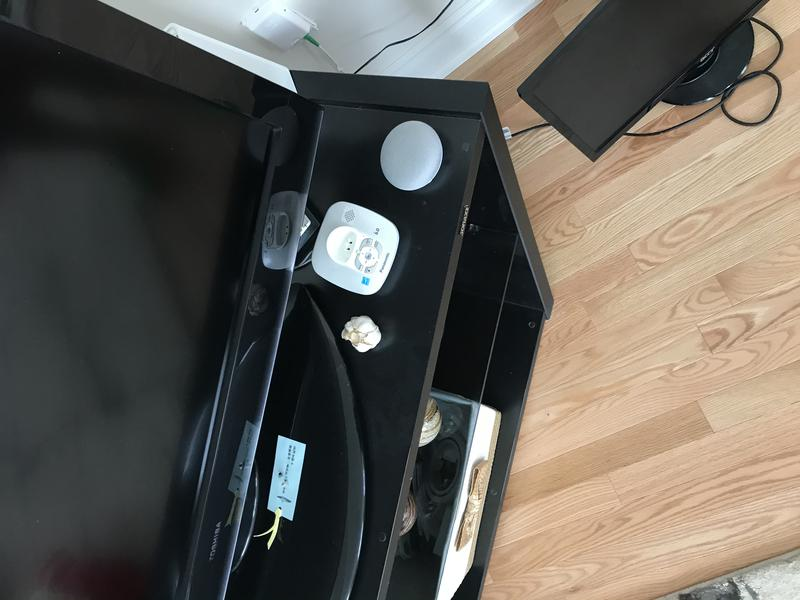garlic: (336, 310, 387, 354)
